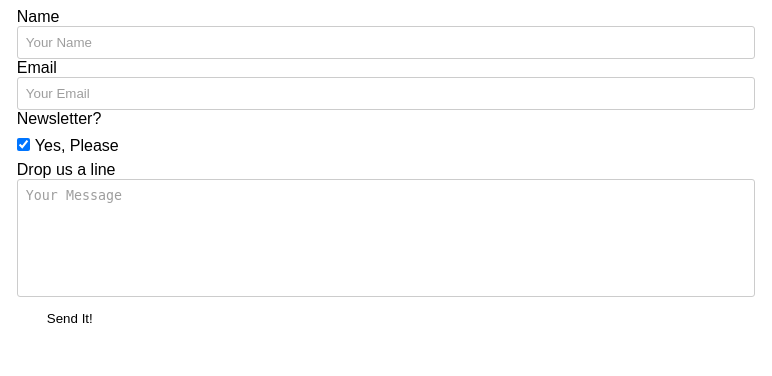
🧪 FORM: › submit tests: › should fail with email invalid
Type "John Doe" into the field labelled "Name" at (386, 42), box [17,26,755,59]
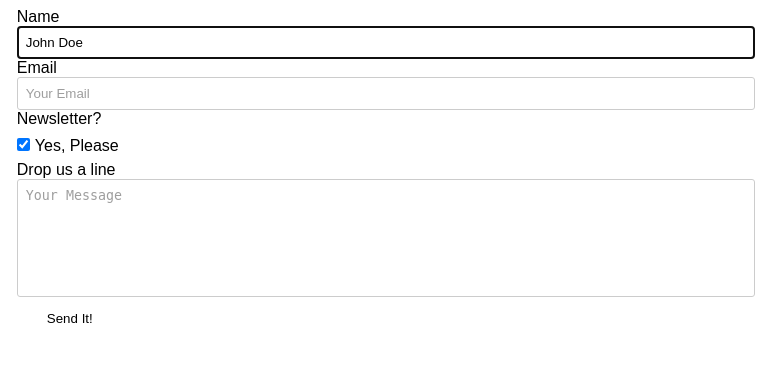
Type "wrong email" into the field labelled "Email" at (386, 94), box [17,77,755,110]
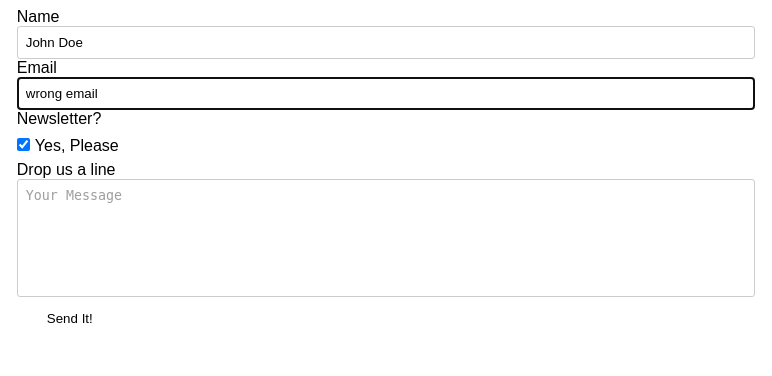
Type "test message" into the text box at (386, 238), box [17,179,755,297]
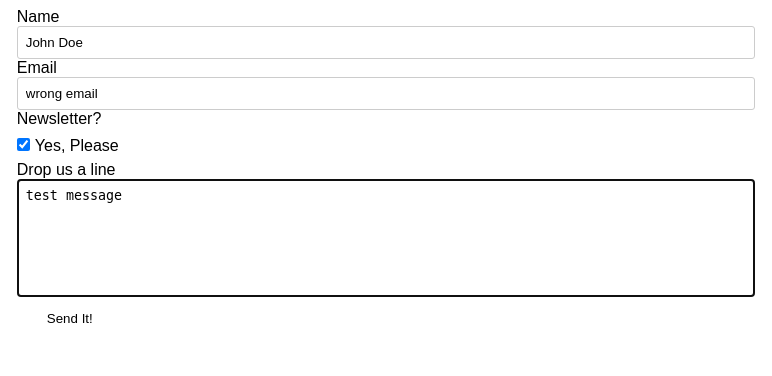
Click the button "Send it!" at (70, 318), box [17,301,123,336]
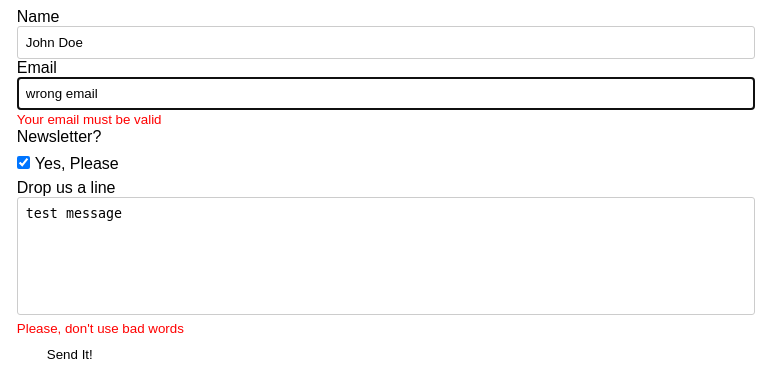
Result: the text "Your email must be valid" is shown at [17,112,162,127]
